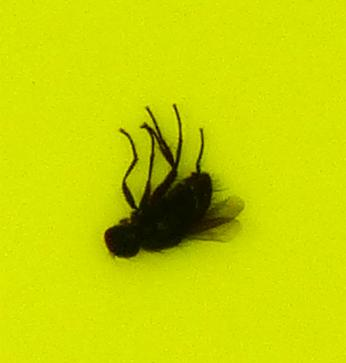Brachycera: (100, 100, 246, 263)
